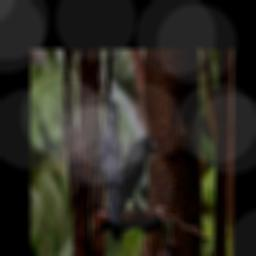Crow: (111, 135, 156, 244), (101, 93, 122, 241)
